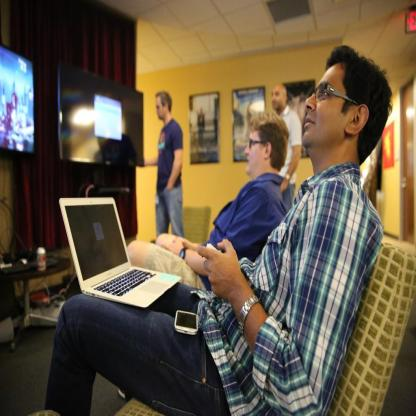board: (60, 194, 181, 311), (37, 245, 47, 272)
